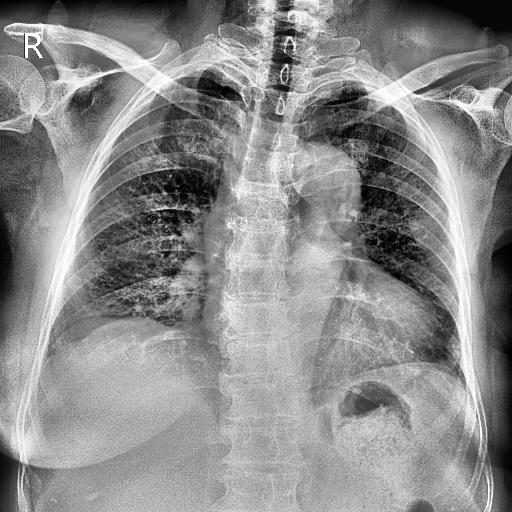0- Aortic enlargement: (278, 140, 360, 228), (286, 138, 358, 232), (290, 141, 360, 224)
3- Cardiomegaly: (202, 282, 448, 360), (202, 282, 444, 360), (196, 293, 438, 354)
